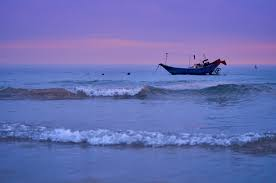boat: (159, 52, 230, 79)
